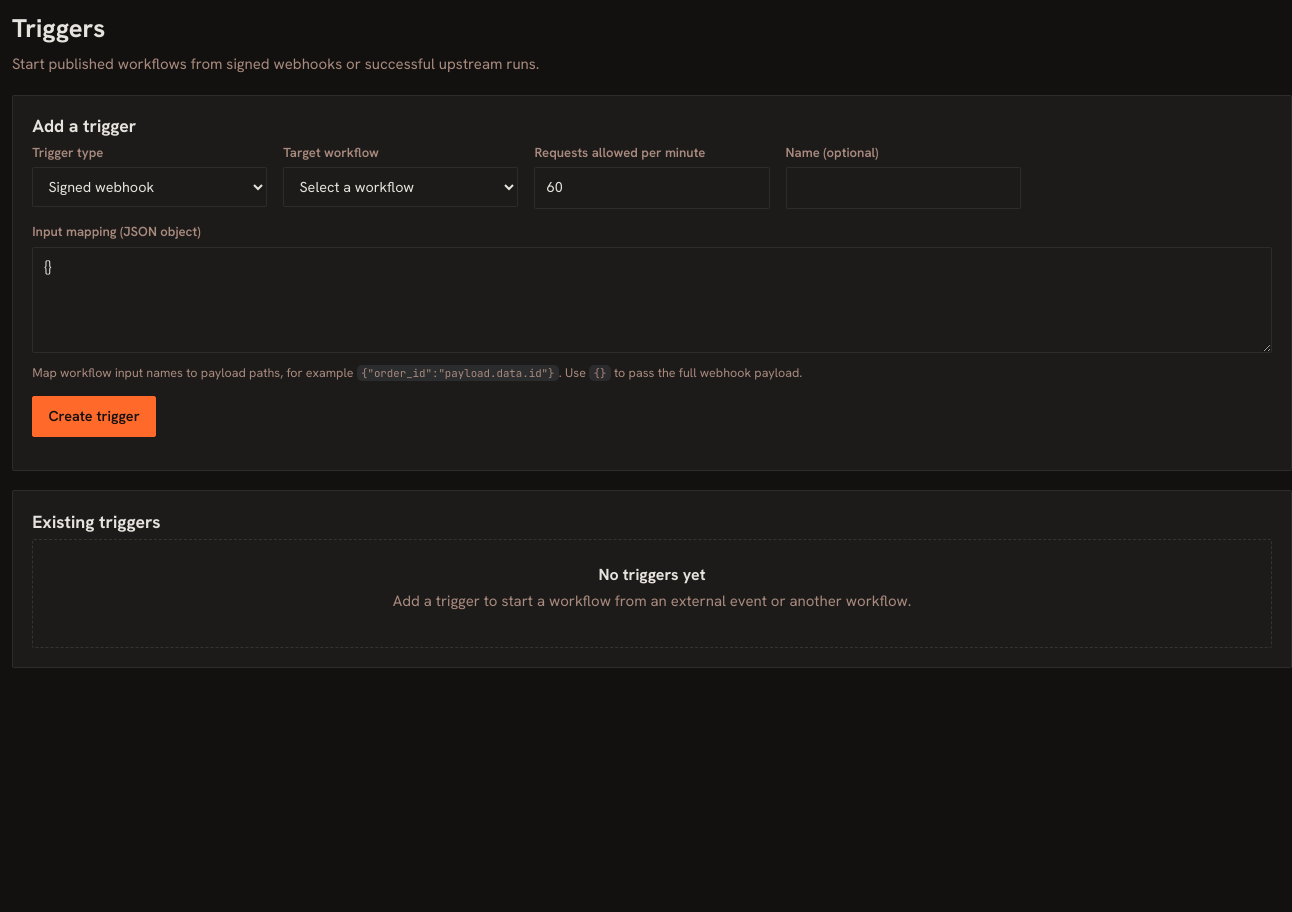
Test: TriggersPage › does not send an invalid input mapping
Select "Published workflow (v2)" in the dropdown labelled "Target workflow" at (401,187), box [283,167,518,207]
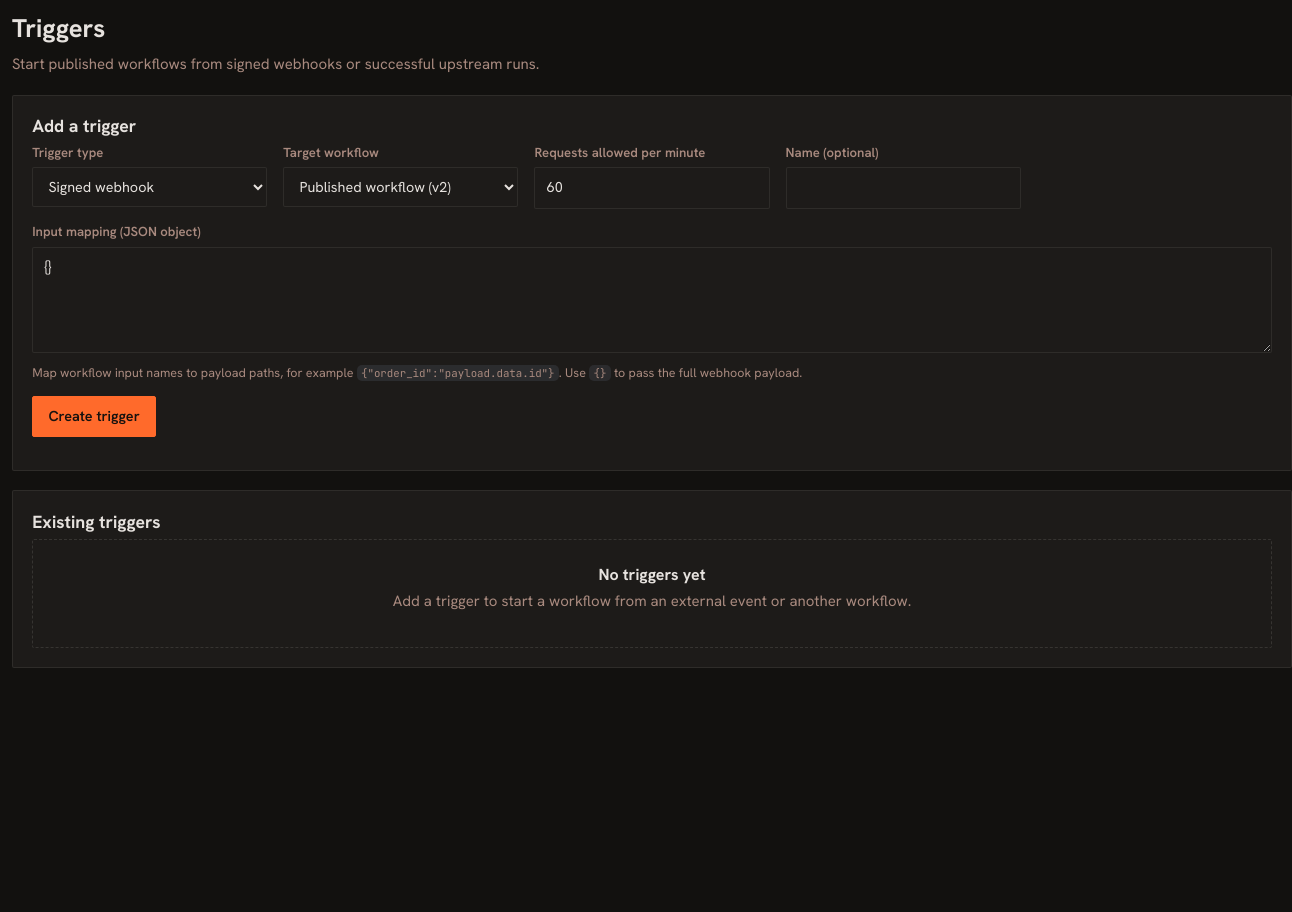
Replace the text in the text box labelled "Input mapping" with "[not-an-object]" at (652,300), box [32,247,1272,353]
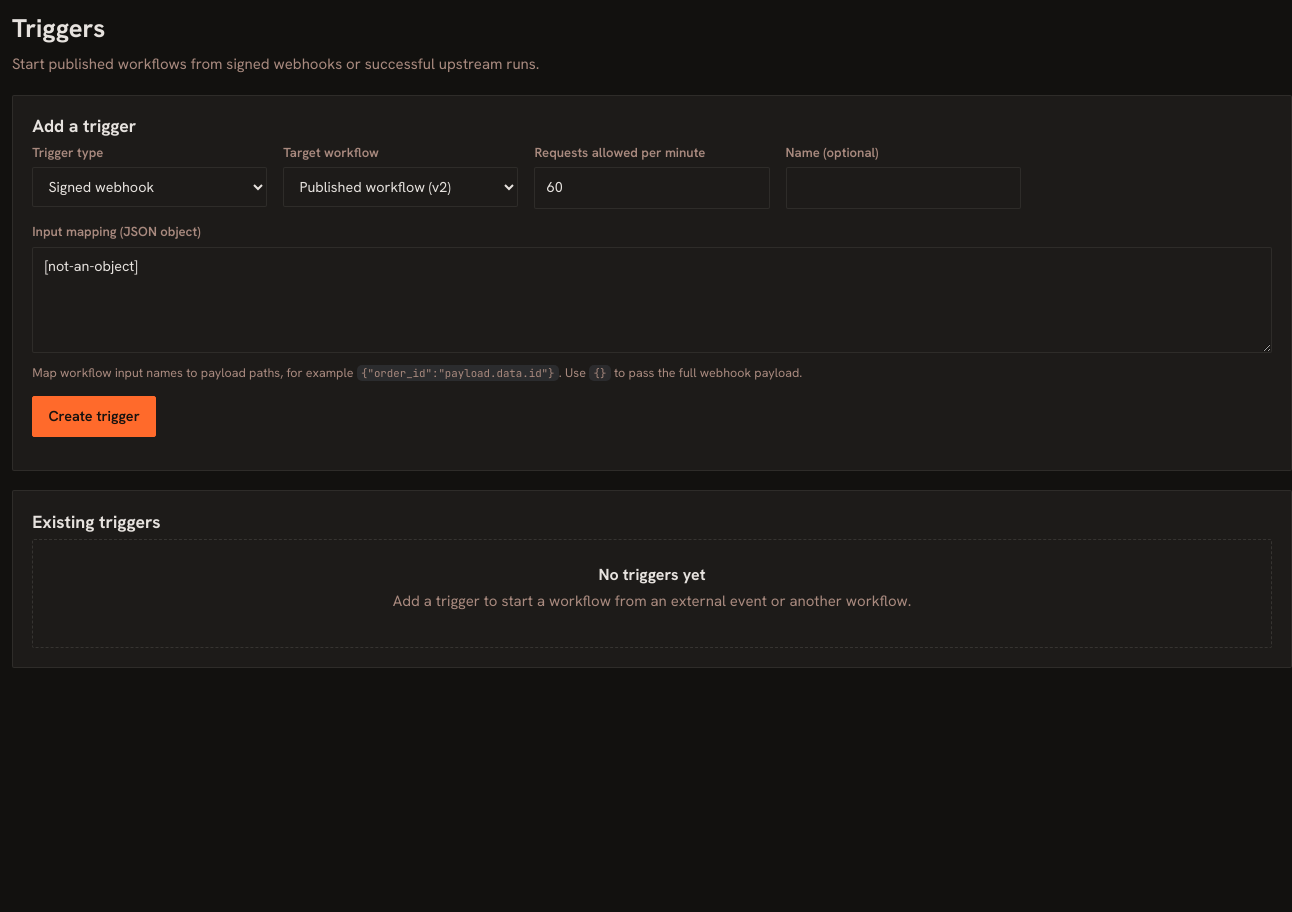
Click the button "Create trigger".
click(94, 417)  # box [32,396,156,437]
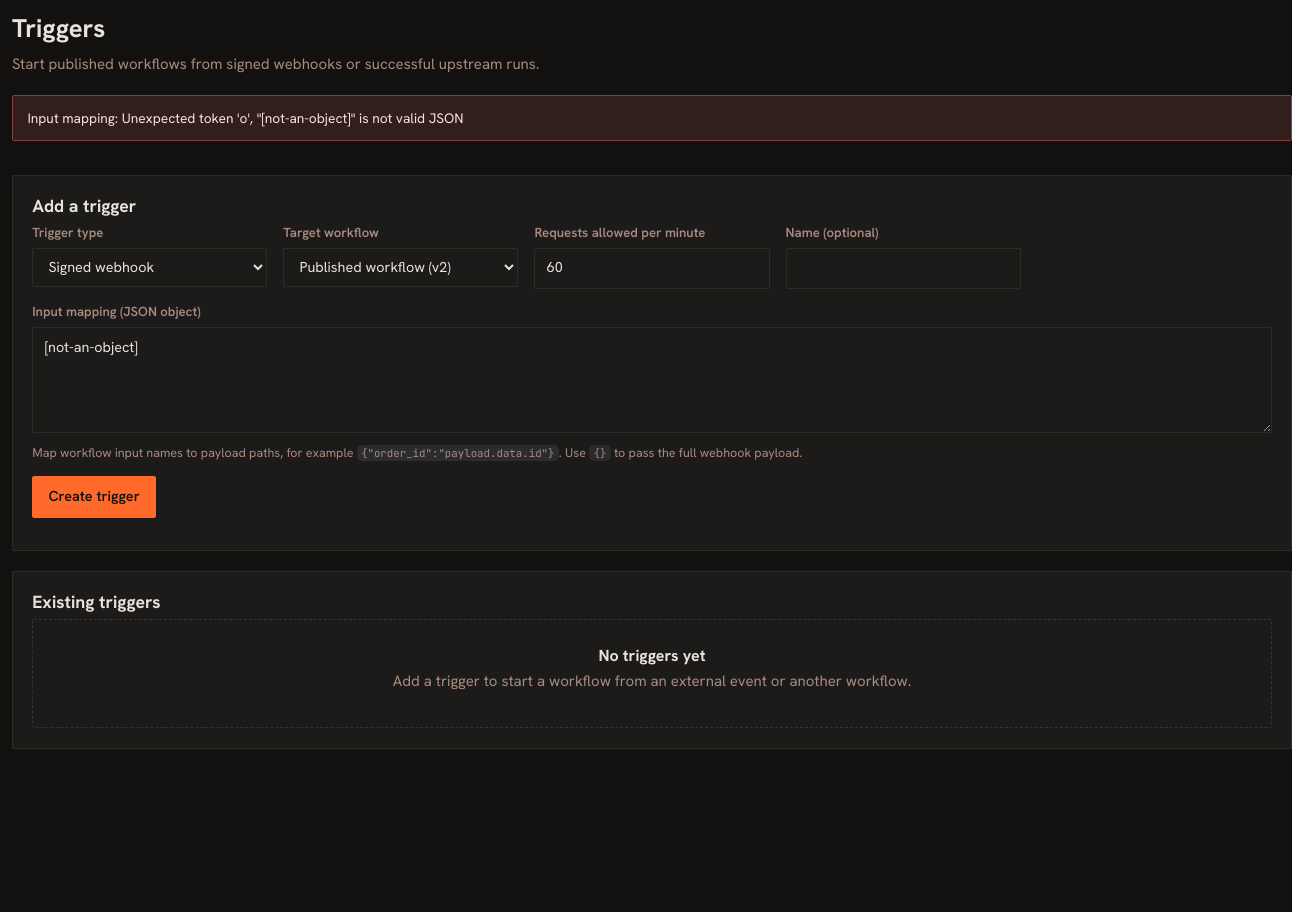
Check: the message shows "Input mapping", box [27,109,464,127]
